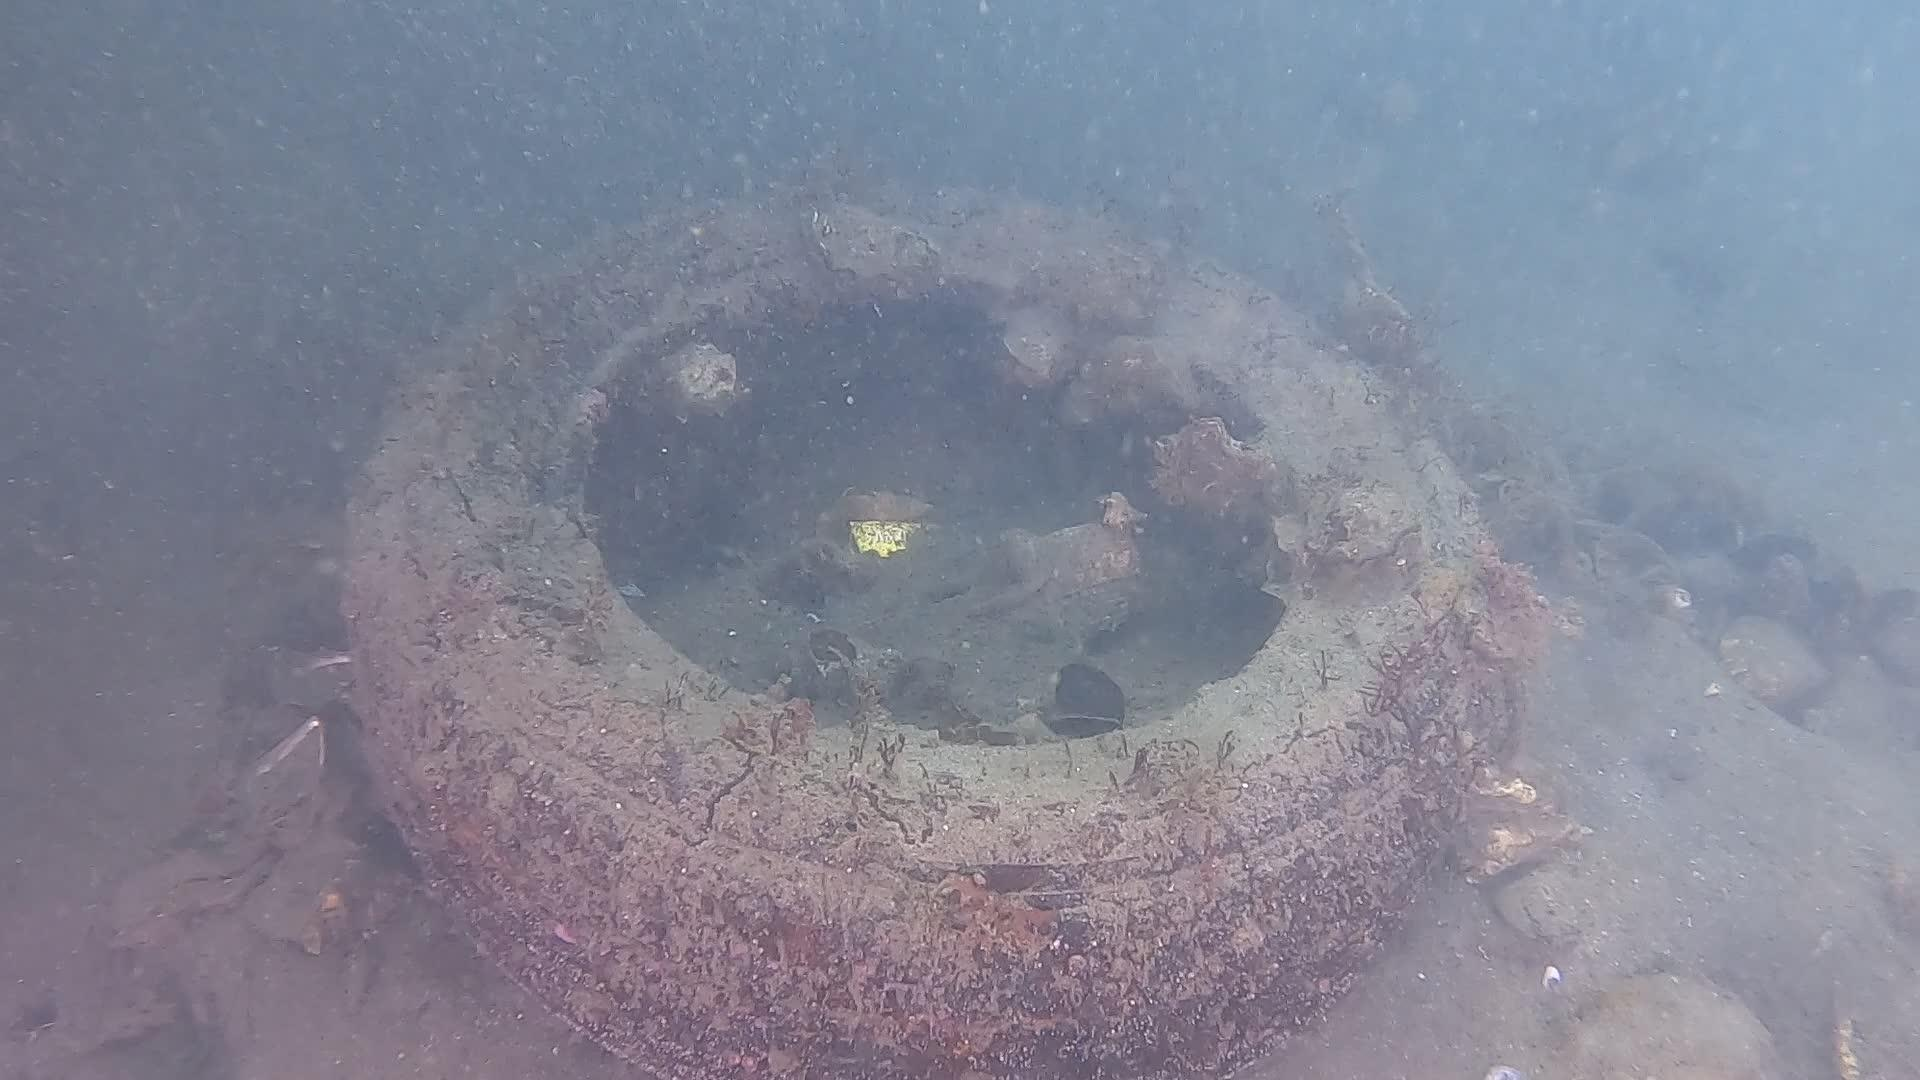tire: (342, 187, 1513, 1073)
